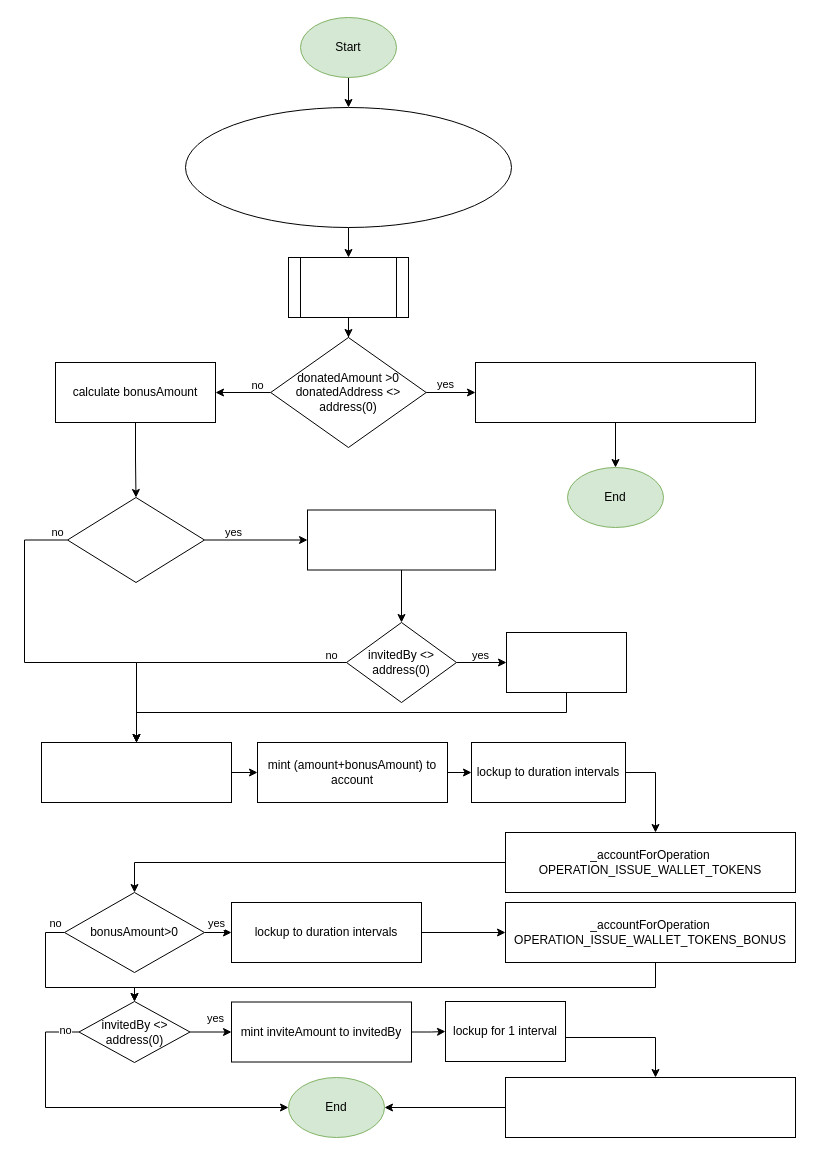
Some shapes in this 813 by 1155 pixel diagram are drawn without their labels. The centre of each missing label's shape, as x and y in pixels:
"_accountForOperation OPERATION_ISSUE_WALLET_TOKENS_INVITE" goes at point 650,1107.
"calculate invitedAmount" goes at point 566,662.
"convert amount, bonusAmount, invitedAmount. [value] * numerator / denominator" goes at point 136,772.
"external call onDonate(stakingToken, account, donateAmount)" goes at point 615,392.
"external call to community invitedBy(account)" goes at point 401,539.
"get poolSettings" goes at point 348,287.
"inviteByFraction > 0" goes at point 135,539.
"issueWalletTokens (account, amount, priceBeforeStake, donatedAmount)" goes at point 348,167.
